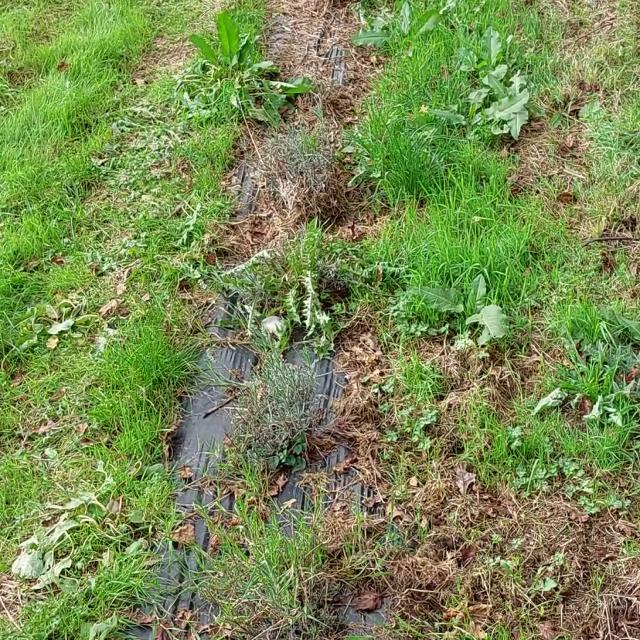organic waste: (16, 460, 148, 596), (164, 0, 292, 133), (524, 366, 638, 449), (37, 270, 121, 361), (420, 261, 516, 338), (451, 50, 539, 132), (352, 0, 449, 73), (435, 19, 526, 96)
